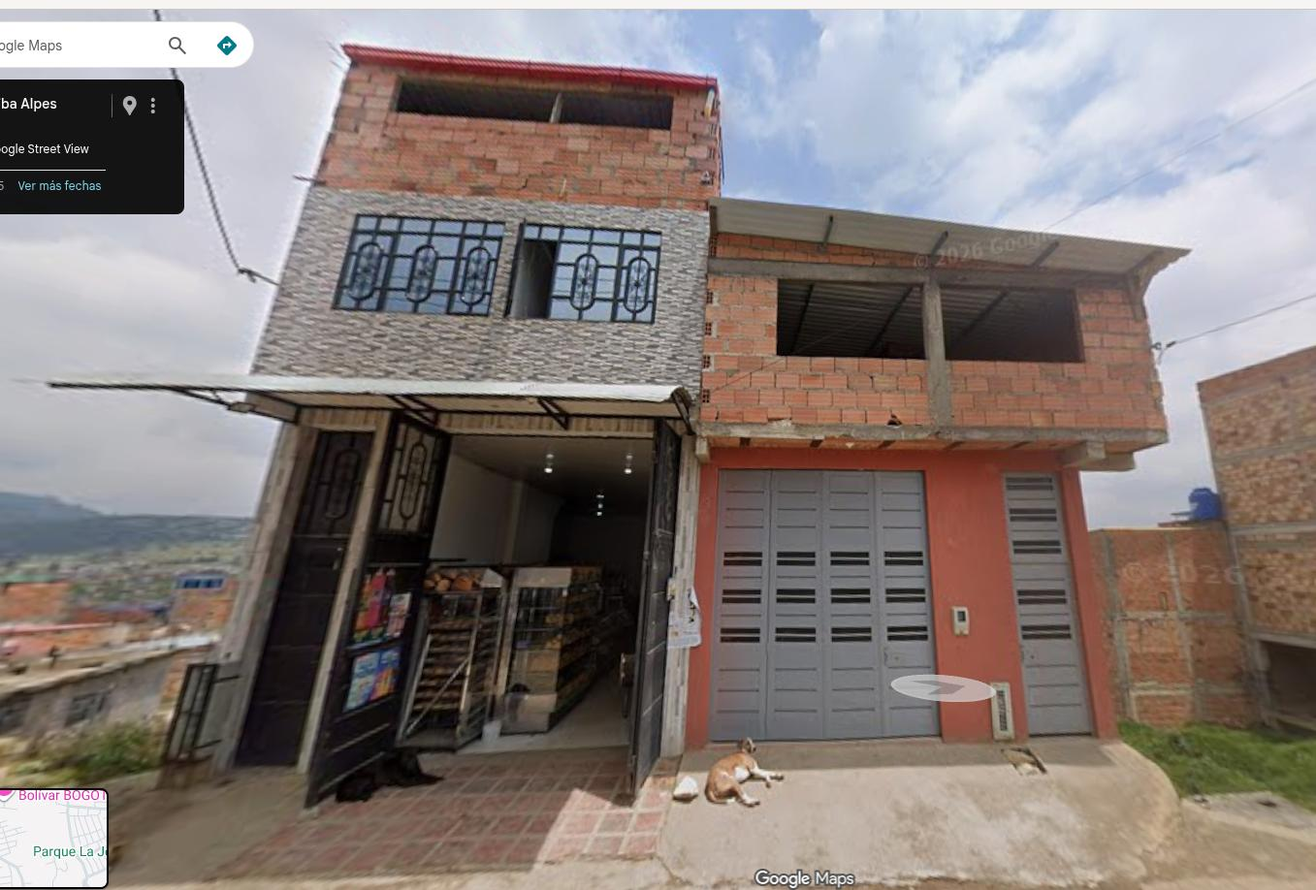casa: (49, 46, 1186, 889)
